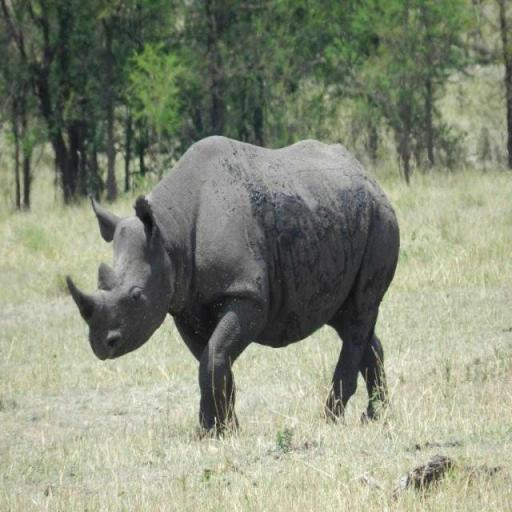Elephant: (65, 134, 401, 440)
